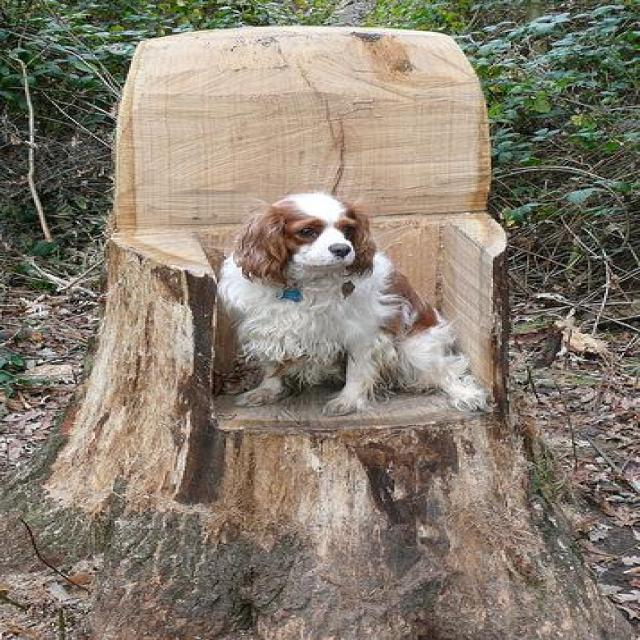blenheim_spaniel: (217, 188, 495, 414)
